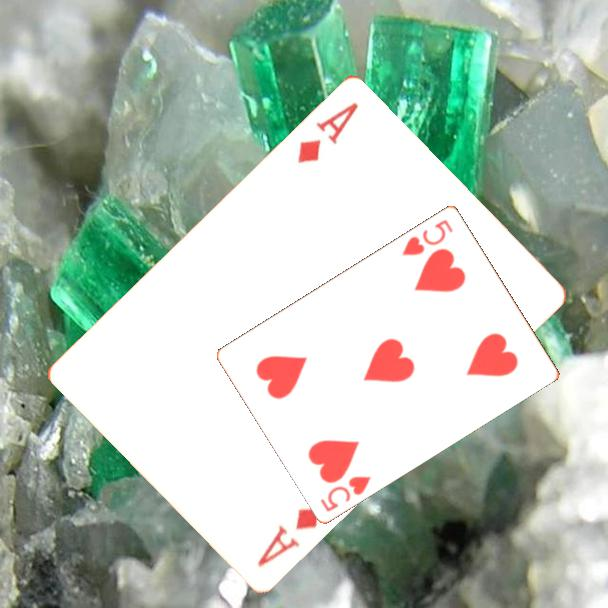d01: (293, 98, 361, 166), (254, 502, 322, 569)
h05: (399, 215, 456, 258), (317, 472, 374, 514)
